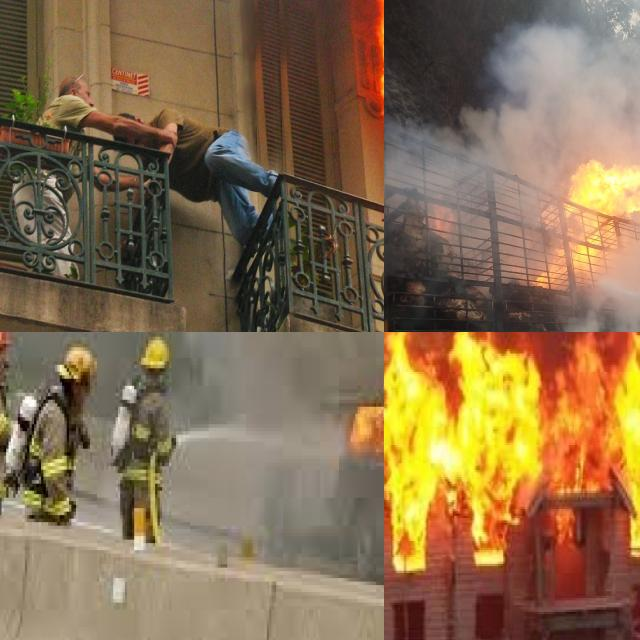fire: (384, 332, 640, 561), (536, 159, 640, 289), (332, 371, 384, 480)
smoke: (384, 0, 640, 278), (0, 332, 384, 410)
